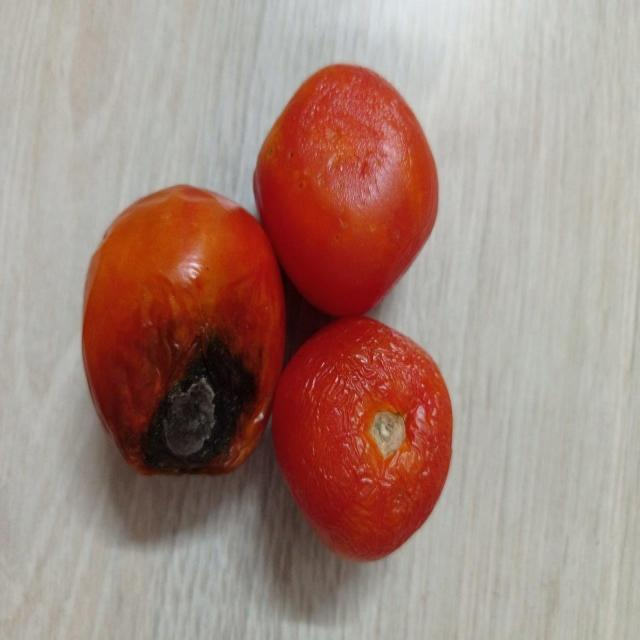Rotten: (83, 183, 289, 478)
overripe: (272, 315, 453, 559)
